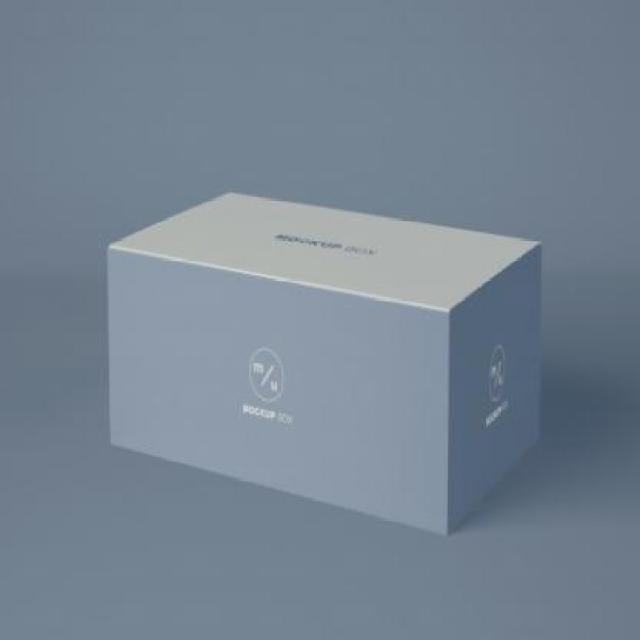box: (107, 190, 551, 541)
